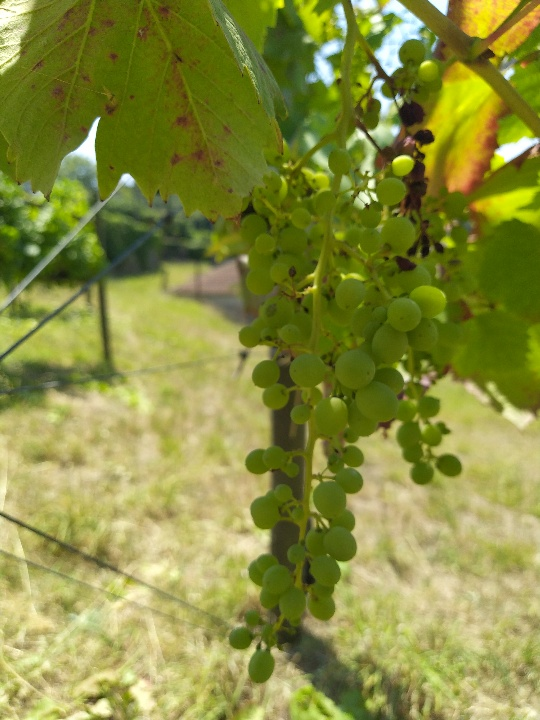grape: (226, 144, 451, 688), (375, 95, 451, 278)
